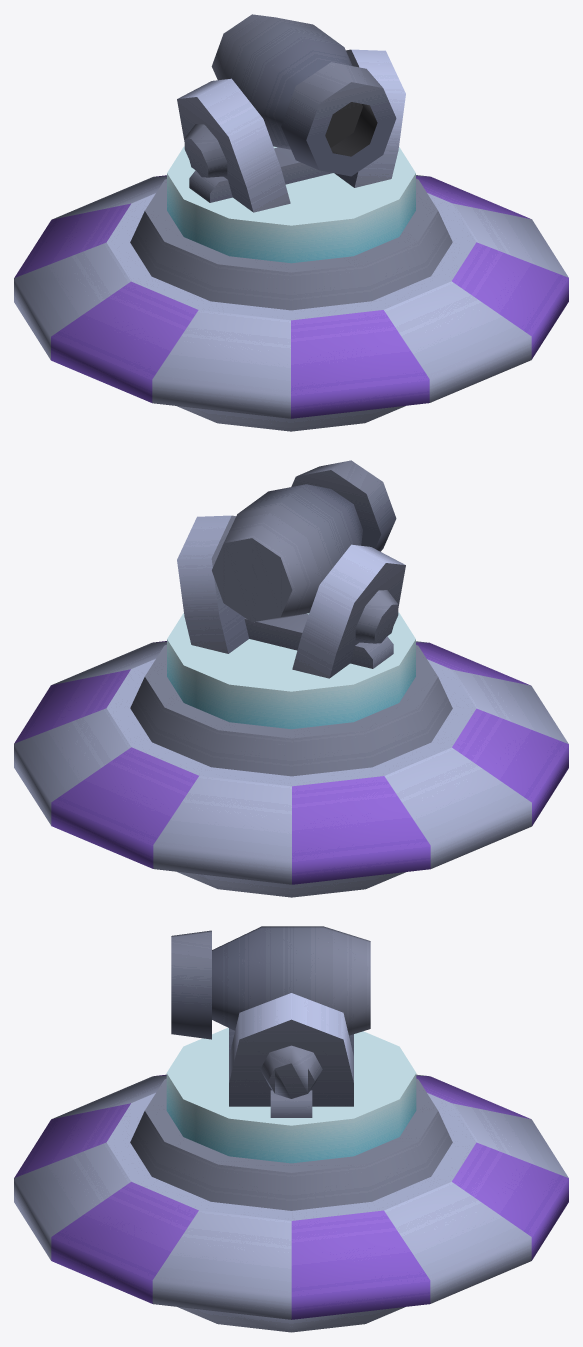
The model's file is enemy-ufo-c-weapon.glb.
3 views of the same model, one above another, from view 1: azimuth 30°, elevation 25°; view 2: azimuth 150°, elevation 25°; view 3: azimuth 270°, elevation 25° (orthographic).
Visible parts, largest first — view 1: enemy-ufo-c-weapon, barrel; view 2: enemy-ufo-c-weapon, barrel; view 3: enemy-ufo-c-weapon, barrel.
Boxes of the visible parts, x1,y1,x2,y2 form: enemy-ufo-c-weapon: (14,49,568,431); barrel: (211,14,396,176); enemy-ufo-c-weapon: (14,515,568,897); barrel: (212,460,396,622); enemy-ufo-c-weapon: (14,993,568,1332); barrel: (171,926,370,1039).
Bounding box in the file's own units: 1 × 0.6783 × 1.
1 material, 1 textured.
